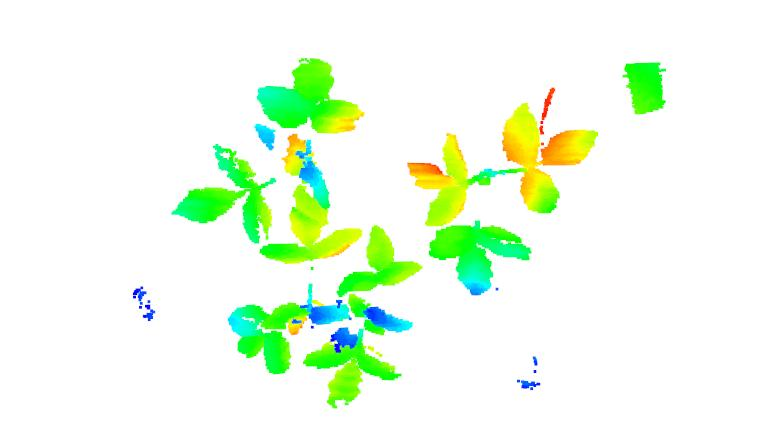mungbean: (165, 56, 368, 241), (404, 103, 598, 294), (229, 190, 363, 373), (303, 228, 421, 411)
